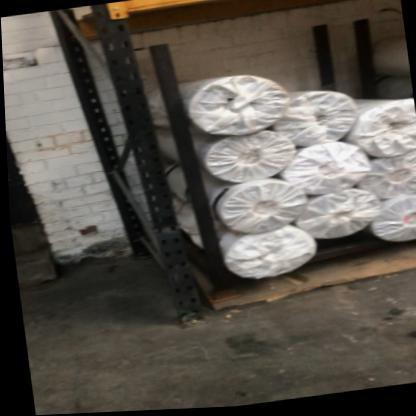vertical_damage: (138, 195, 188, 259)
